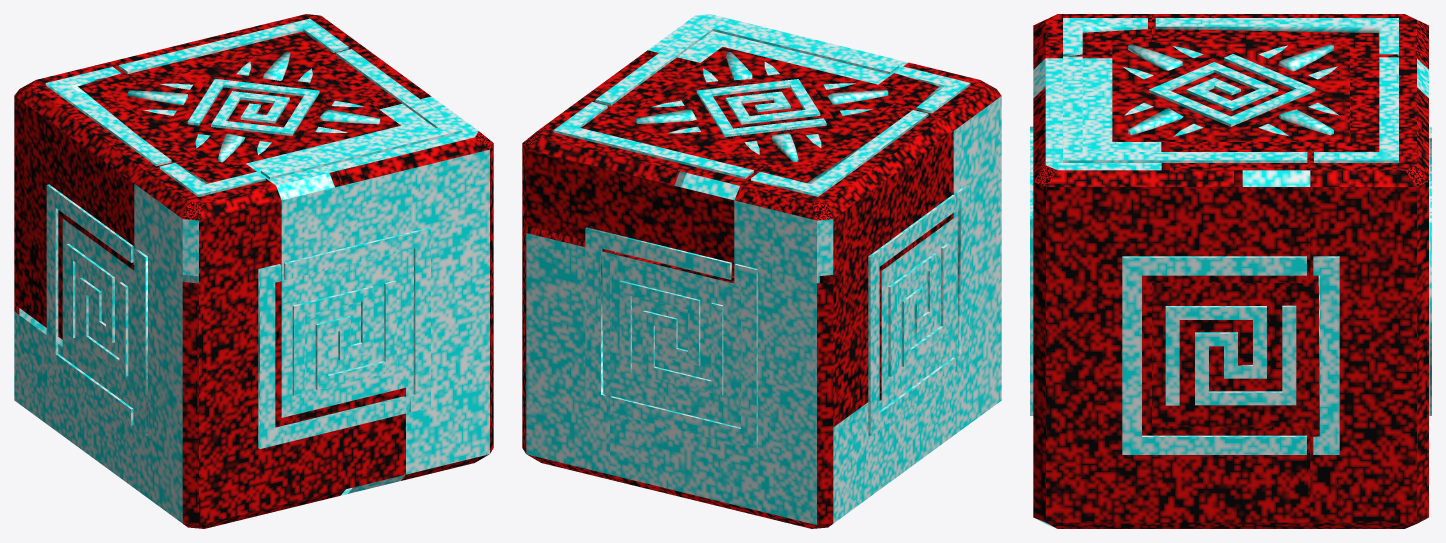
File: SM_MonadBless_01_GDH.fbx
The picture shows the model from 3 angles, left to right: view 1: azimuth 30°, elevation 25°; view 2: azimuth 150°, elevation 25°; view 3: azimuth 270°, elevation 25°; orthographic projection. The views are drawn at different scales.
Visible parts, largest first — view 1: SM_MonadBless_01_GDH; view 2: SM_MonadBless_01_GDH; view 3: SM_MonadBless_01_GDH.
Part boxes in pixels (<box>): SM_MonadBless_01_GDH: <box>14,14,493,528</box>; SM_MonadBless_01_GDH: <box>522,14,1001,528</box>; SM_MonadBless_01_GDH: <box>1030,14,1431,528</box>.
Size of the model in its own units: 20.52 by 20.65 by 20.52.
